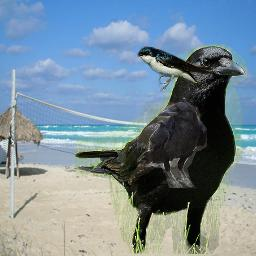Crow: (75, 44, 247, 254), (137, 102, 207, 188)
Swallow: (137, 46, 216, 92)
